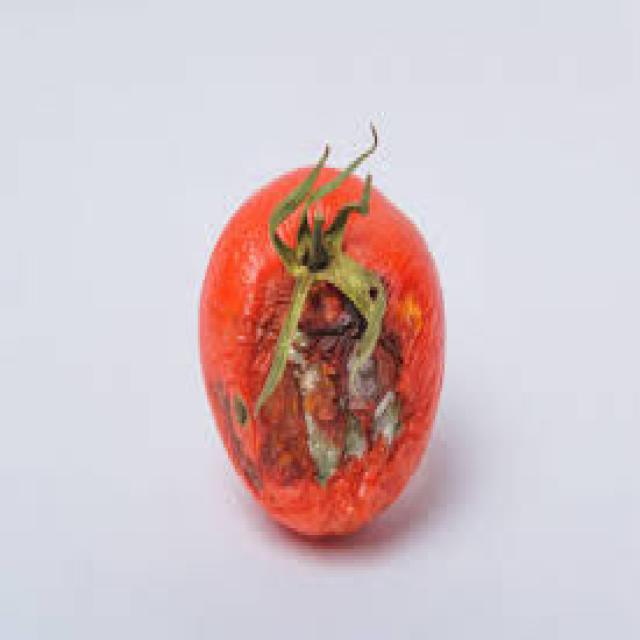food_waste: (198, 168, 442, 535)
